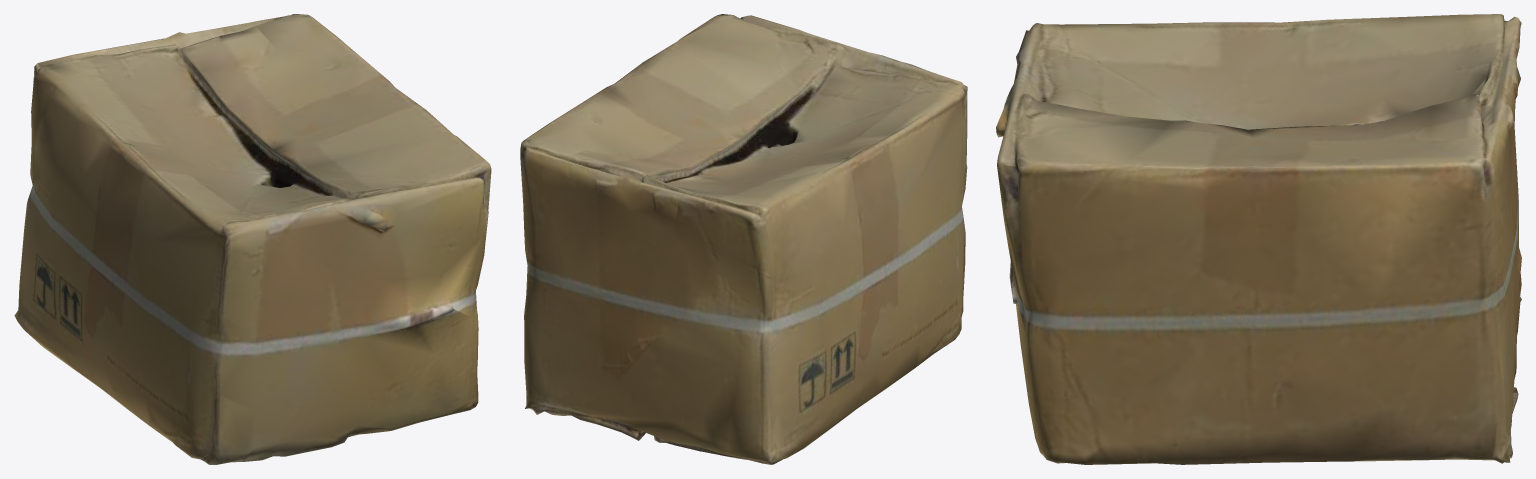
File: scene-cardboard.glb
3 renders of one model, left to right at view 1: azimuth 30°, elevation 25°; view 2: azimuth 150°, elevation 25°; view 3: azimuth 270°, elevation 25°, orthographic. The views are drawn at different scales.
Visible parts, largest first — view 1: cardboard_box_01; view 2: cardboard_box_01; view 3: cardboard_box_01.
Part boxes in pixels (x1,y1,x2,y2): cardboard_box_01: (14,14,491,464); cardboard_box_01: (520,14,967,464); cardboard_box_01: (996,14,1521,464).
Bounding box in the file's own units: 0.3867 × 0.3418 × 0.5159.
Materials: 1 (1 with a texture image).
